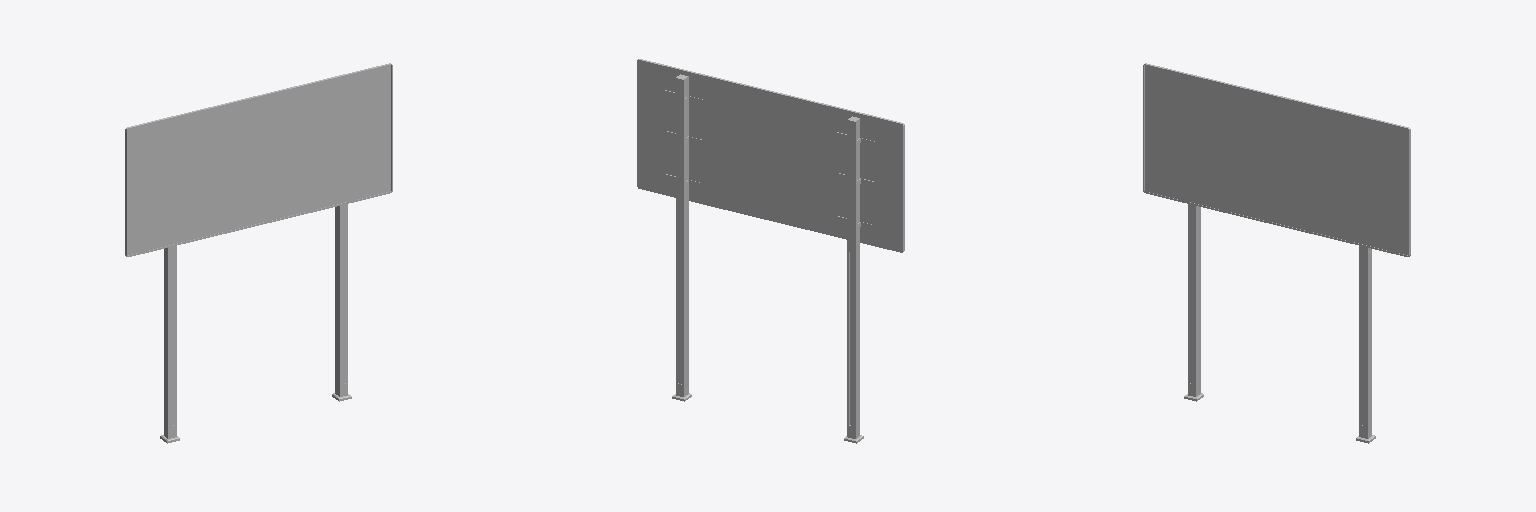
File: sign.obj
The picture shows the model from 3 angles: view 1: azimuth 30°, elevation 25°; view 2: azimuth 150°, elevation 25°; view 3: azimuth 330°, elevation 25°; orthographic projection.
Visible parts, largest first — view 1: signRender:sign, signRender:pCube2, signRender:pCube1; view 2: signRender:sign, signRender:pCube2, signRender:pCube1; view 3: signRender:sign, signRender:pCube1, signRender:pCube2.
Boxes of the visible parts, x1,y1,x2,y2 form: signRender:sign: [125, 63, 392, 256]; signRender:pCube2: [160, 116, 179, 443]; signRender:pCube1: [332, 74, 351, 401]; signRender:sign: [637, 59, 904, 252]; signRender:pCube2: [844, 116, 863, 443]; signRender:pCube1: [672, 74, 691, 401]; signRender:sign: [1143, 63, 1410, 256]; signRender:pCube1: [1356, 116, 1375, 443]; signRender:pCube2: [1184, 74, 1203, 401].
Bounding box in the file's own units: 7.92 × 9.24 × 0.382.